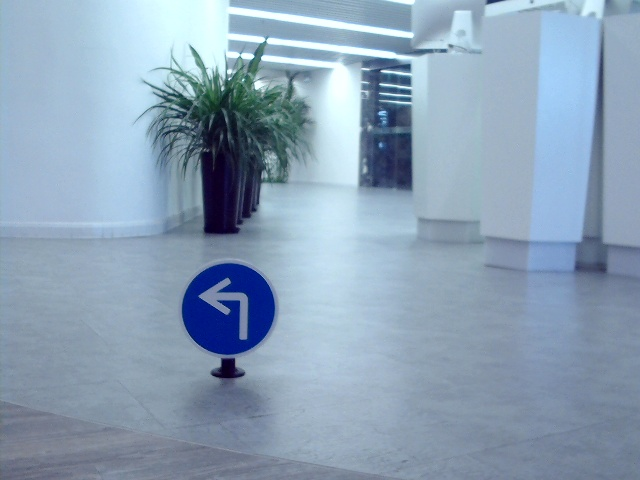turn_left: (195, 275, 253, 340)
